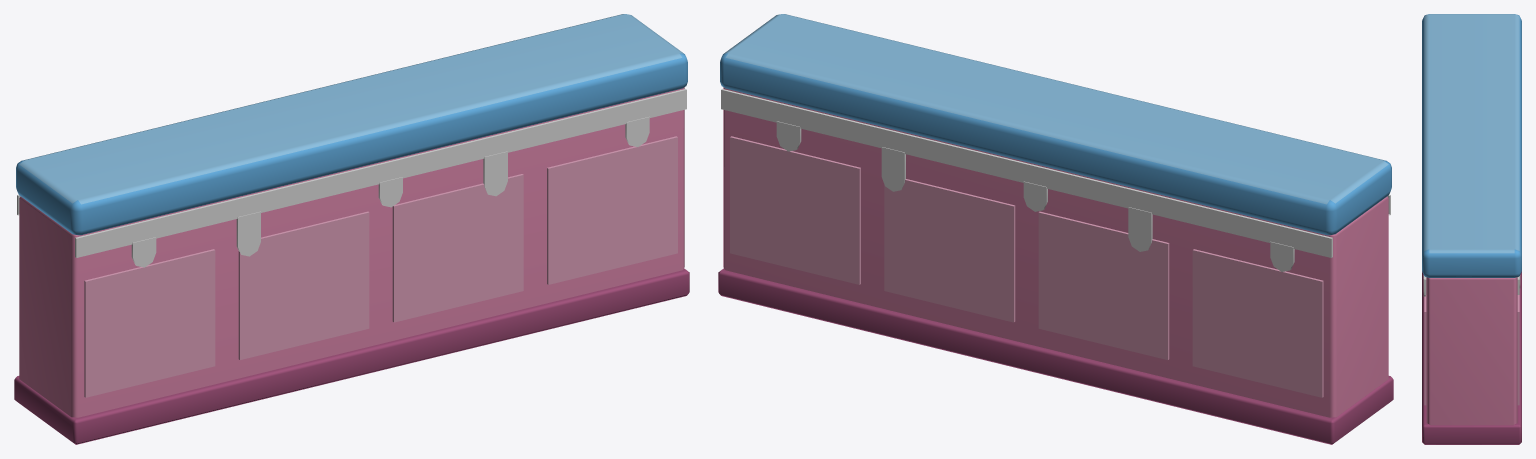
Rendered from block-border.glb.
3 renders of one model, left to right at view 1: azimuth 30°, elevation 25°; view 2: azimuth 150°, elevation 25°; view 3: azimuth 270°, elevation 25°, orthographic. The views are drawn at different scales.
Parts seen in each view (by area): view 1: block-border; view 2: block-border; view 3: block-border.
Boxes of the visible parts, box(x1,y1,x2,y2) form: block-border: box(14, 14, 689, 444); block-border: box(718, 14, 1393, 444); block-border: box(1422, 14, 1521, 444).
Bounding box in the file's own units: 4 × 1.5 × 0.7.
